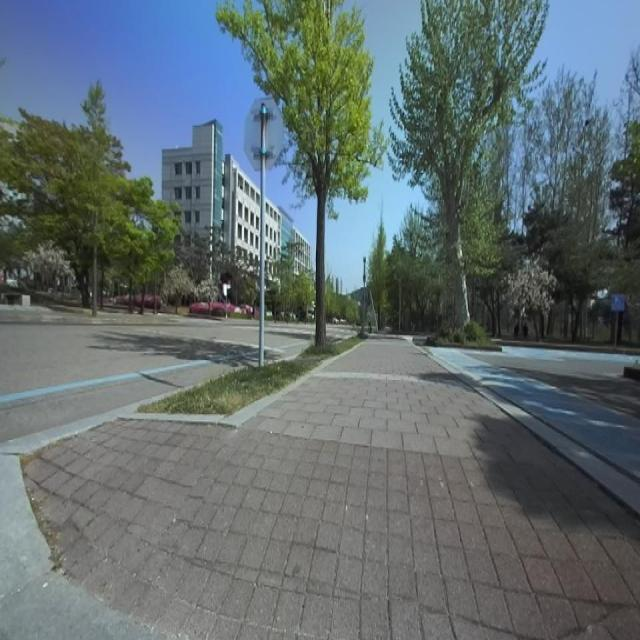sidewalk: (22, 339, 640, 639)
